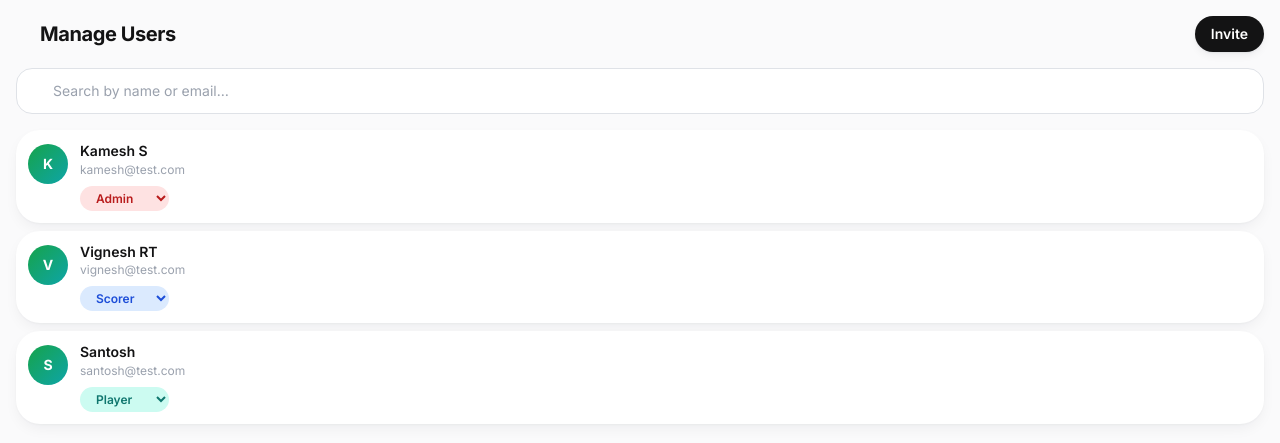
Test case: AdminUsers — search filter › filters by email
Type "santosh@" into the field with placeholder "Search by name or email…" at (640, 91), box left=16, top=68, right=1264, bottom=114
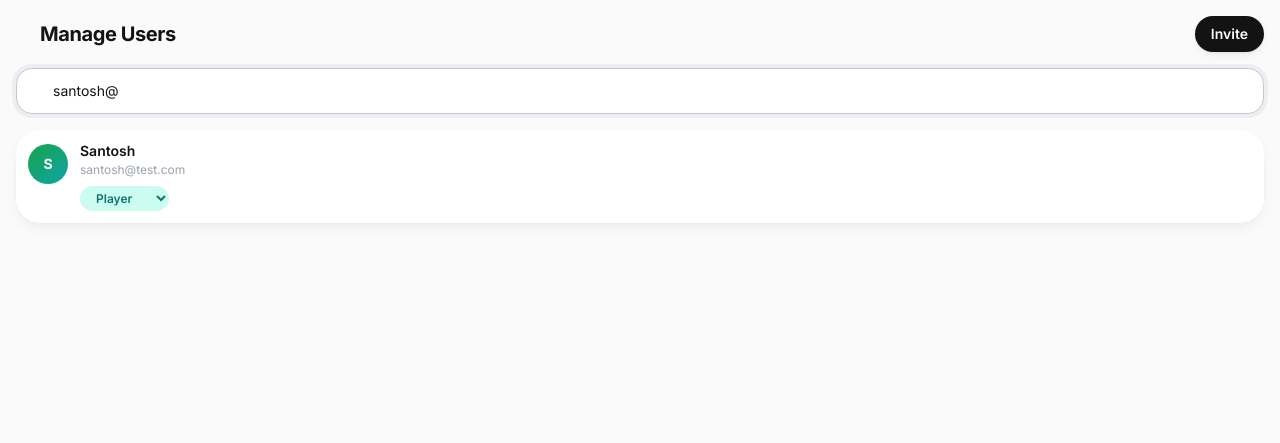
expect the text "Santosh" is shown: met, box left=80, top=142, right=135, bottom=159
expect the text "Kamesh S" is gone: met
